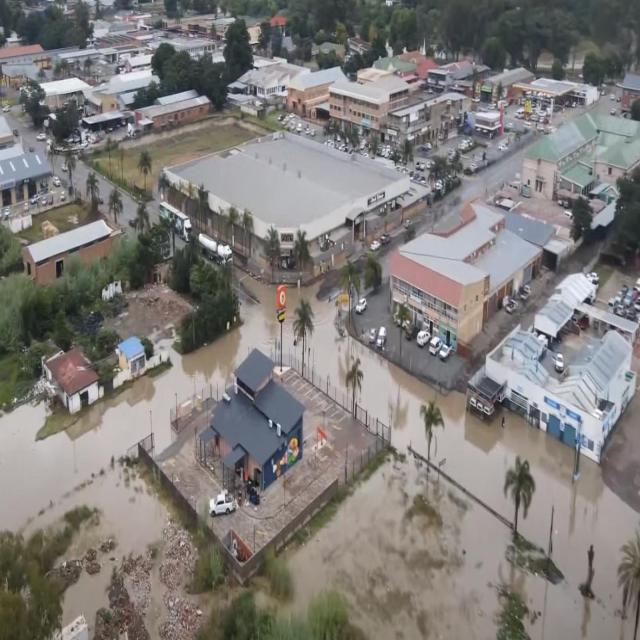flood: (287, 286, 640, 638), (0, 284, 279, 565), (64, 552, 112, 626), (283, 286, 296, 363), (266, 294, 280, 363), (258, 284, 271, 314), (289, 291, 297, 324), (285, 338, 288, 349)
house: (162, 128, 411, 278), (382, 198, 554, 344), (482, 317, 640, 470), (520, 112, 640, 222), (212, 342, 303, 484), (20, 216, 128, 292), (331, 74, 409, 138), (533, 266, 597, 342), (0, 146, 52, 224), (47, 346, 99, 418), (228, 56, 284, 118), (288, 62, 344, 121), (136, 89, 212, 132), (116, 332, 148, 383), (35, 78, 86, 110)
